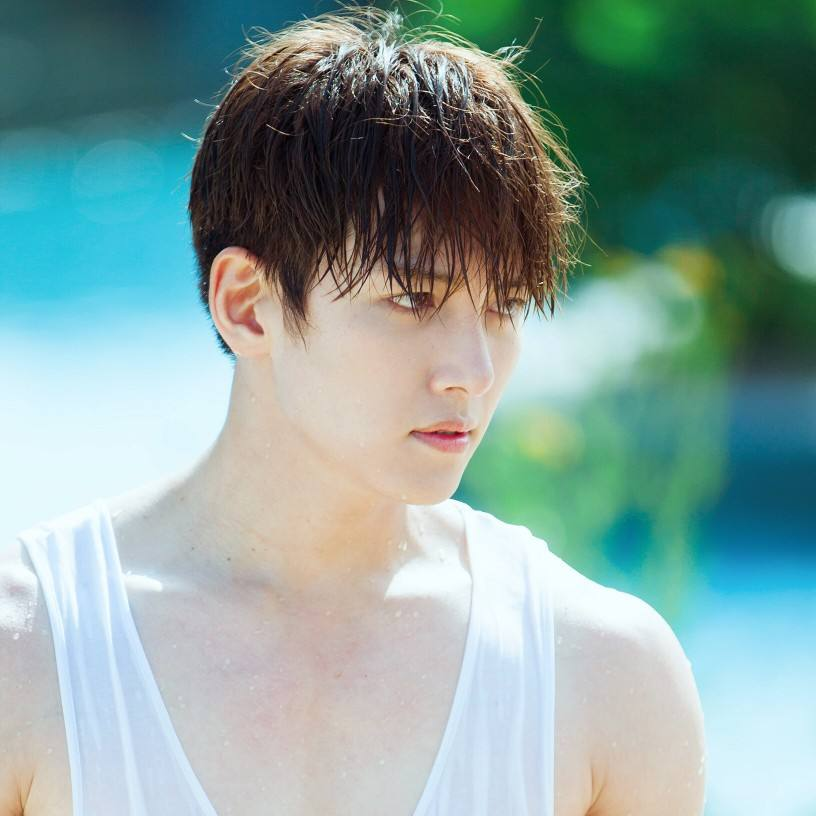person: (145, 33, 639, 773)
